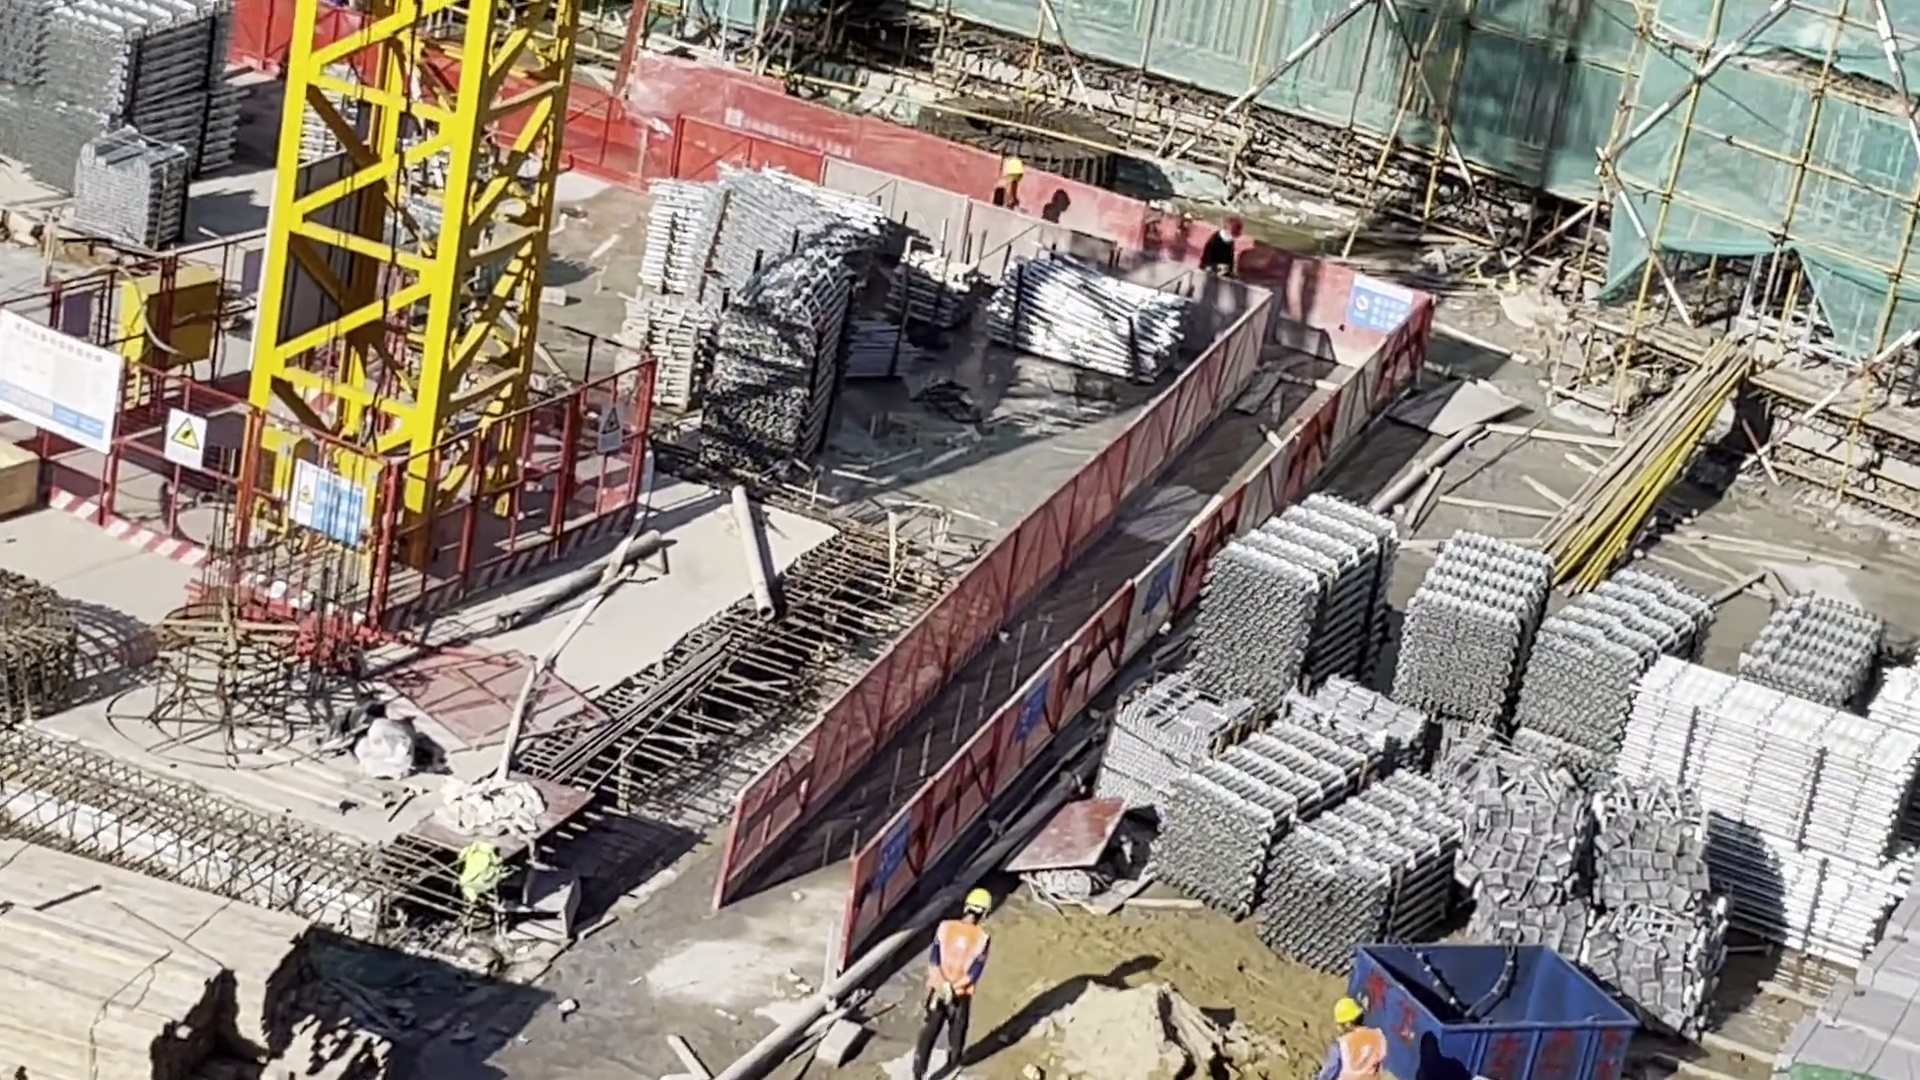brick: (1781, 892, 1913, 1080)
ebox: (120, 270, 211, 370)
fence: (717, 296, 1416, 980), (569, 81, 983, 233)
helmet: (965, 888, 991, 911), (1335, 999, 1362, 1021), (1005, 157, 1021, 177)
hopper: (1356, 946, 1639, 1080)
person: (919, 887, 985, 1076), (1319, 999, 1381, 1080), (1198, 216, 1243, 281), (992, 157, 1023, 208)
scaffold: (1629, 658, 1920, 960), (1162, 718, 1382, 912), (1265, 776, 1482, 953), (1523, 574, 1711, 761), (1201, 501, 1383, 695), (42, 4, 246, 176), (1400, 533, 1538, 726), (715, 258, 847, 454), (988, 253, 1181, 381), (1740, 589, 1875, 708), (719, 168, 862, 276), (77, 134, 188, 257), (616, 298, 706, 414), (896, 243, 975, 335), (642, 184, 709, 287)
slogan: (292, 466, 366, 546), (1347, 272, 1412, 341), (877, 819, 908, 889), (167, 410, 204, 468), (1019, 681, 1042, 737), (600, 404, 625, 453)
vest: (931, 924, 985, 995), (1340, 1030, 1386, 1080)
wood: (1, 874, 324, 1073)
